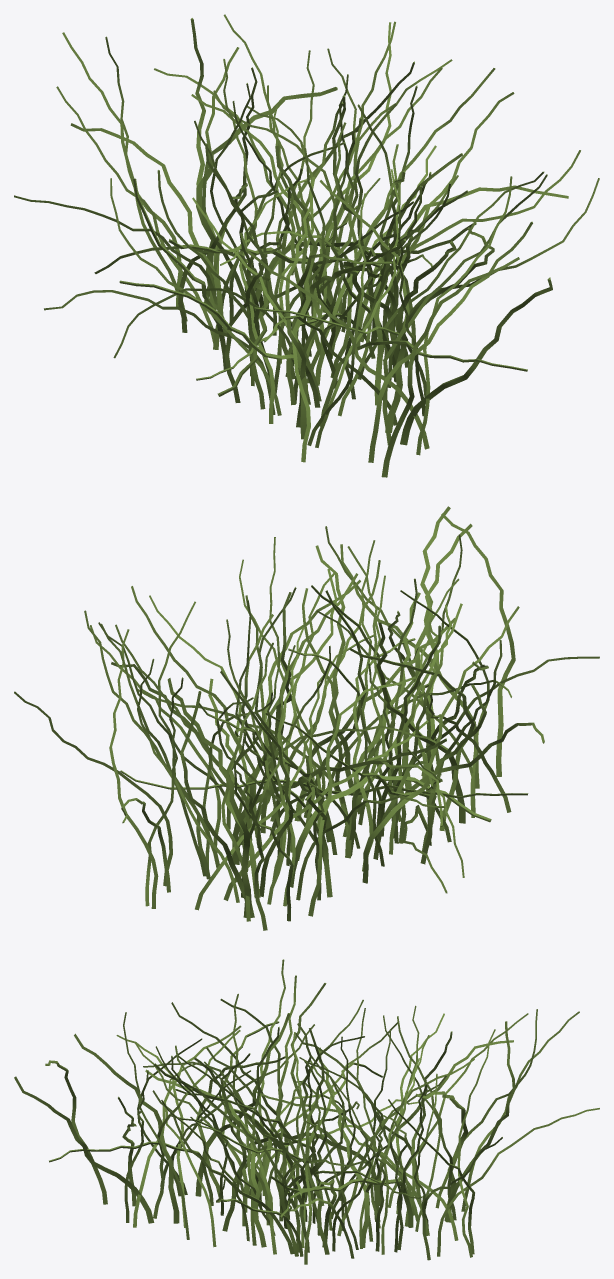
The model's file is plant_swamp_algea_long_noisy_dense_D.fbx.
3 renders of one model, top to bottom at view 1: azimuth 30°, elevation 25°; view 2: azimuth 150°, elevation 25°; view 3: azimuth 270°, elevation 25°, orthographic. The views are drawn at different scales.
Parts seen in each view (by area): view 1: plant_swamp_algea_long_noisy_dense_D; view 2: plant_swamp_algea_long_noisy_dense_D; view 3: plant_swamp_algea_long_noisy_dense_D.
Boxes of the visible parts, x1=… form: plant_swamp_algea_long_noisy_dense_D: x1=14, y1=14, x2=599, y2=477; plant_swamp_algea_long_noisy_dense_D: x1=14, y1=506, x2=599, y2=930; plant_swamp_algea_long_noisy_dense_D: x1=14, y1=959, x2=599, y2=1264.
Bounding box in the file's own units: 413 × 227 × 562.
